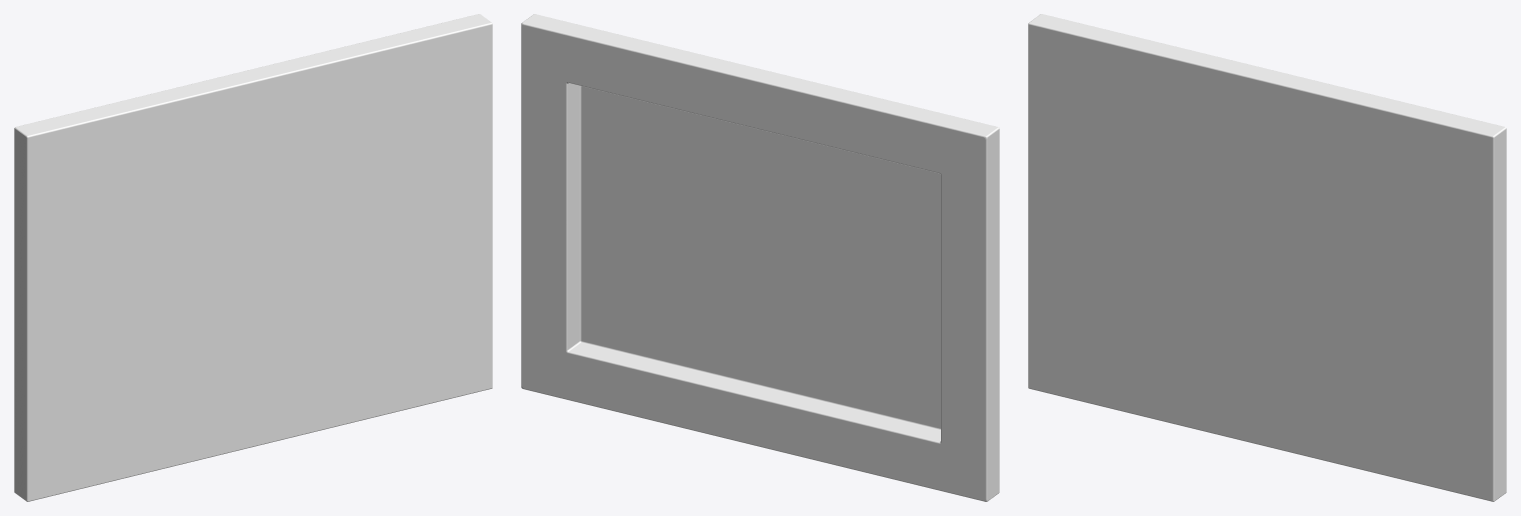
Rendered from canvas.glb.
3 renders of one model, left to right at view 1: azimuth 30°, elevation 25°; view 2: azimuth 150°, elevation 25°; view 3: azimuth 330°, elevation 25°, orthographic.
Parts seen in each view (by area): view 1: Canvas; view 2: Canvas; view 3: Canvas.
Boxes of the visible parts, box(x1,y1,x2,y2) form: Canvas: box(14, 14, 492, 501); Canvas: box(521, 14, 999, 501); Canvas: box(1028, 14, 1506, 501).
Size of the model in its own units: 0.4001 by 0.3001 by 0.02.
Materials: 1 (1 with a texture image).
